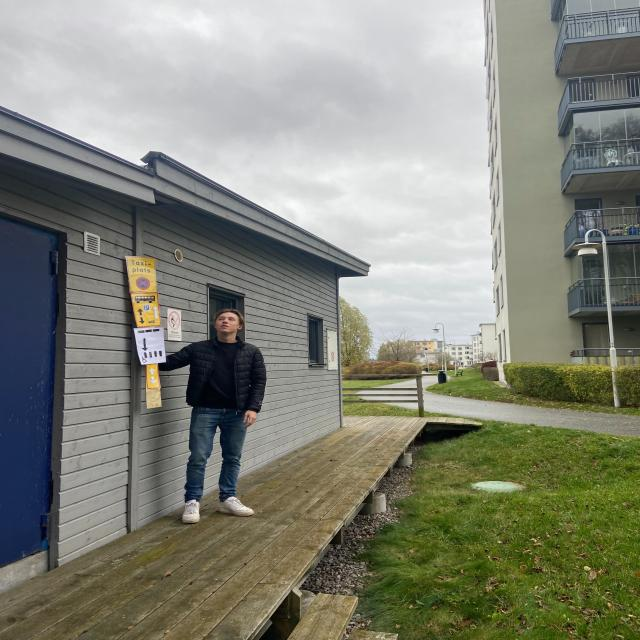lastplats: (125, 256, 160, 294)
